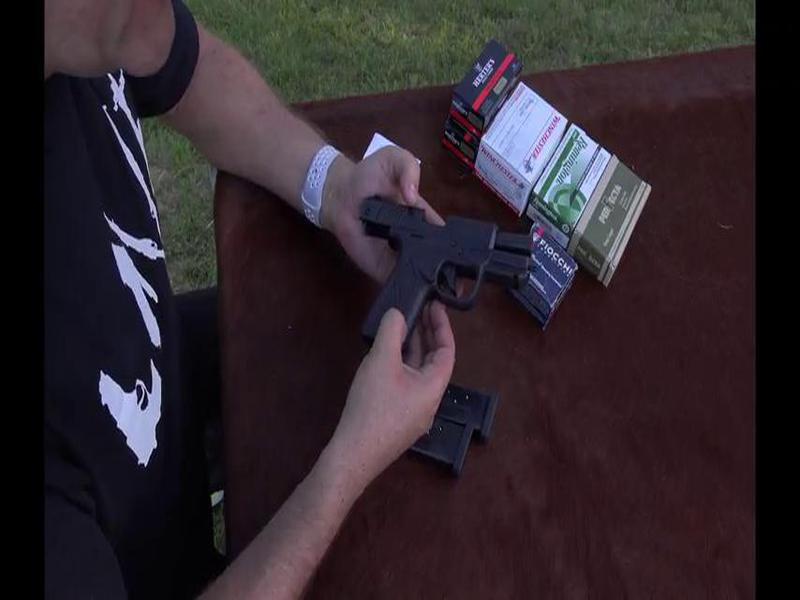Pistola: (349, 189, 540, 363)
